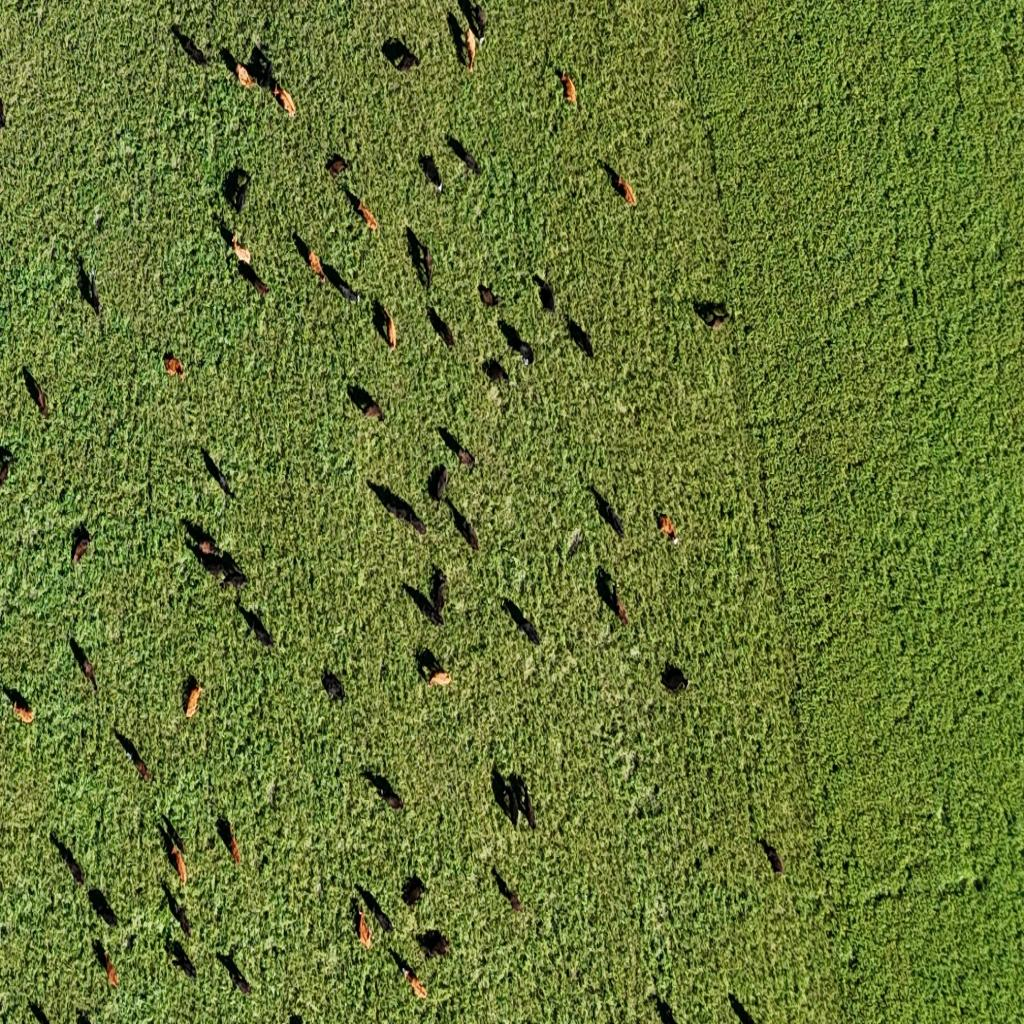cow: (237, 41, 298, 117), (368, 480, 427, 534), (225, 230, 271, 297), (195, 535, 249, 591), (159, 813, 190, 888), (227, 42, 265, 96), (596, 568, 629, 630), (456, 2, 487, 68), (357, 884, 395, 936), (503, 597, 542, 647), (114, 728, 151, 780), (447, 498, 481, 554), (364, 768, 406, 812), (498, 317, 534, 368), (51, 832, 84, 887), (322, 261, 362, 305), (438, 424, 478, 468), (406, 225, 433, 290), (161, 882, 191, 940), (238, 601, 274, 649), (202, 449, 236, 499), (492, 767, 518, 831), (69, 635, 98, 692), (592, 488, 624, 538), (392, 950, 424, 997), (492, 867, 524, 913), (3, 682, 36, 726), (293, 233, 322, 283), (220, 950, 252, 995), (345, 185, 377, 230), (416, 647, 452, 686), (22, 366, 49, 418), (448, 136, 482, 177), (88, 888, 120, 931), (78, 260, 102, 317), (382, 37, 420, 73), (183, 518, 221, 554), (173, 28, 208, 67), (428, 304, 457, 351), (604, 164, 636, 206), (348, 384, 384, 420), (513, 774, 536, 830), (92, 940, 118, 988), (224, 166, 251, 212), (217, 816, 242, 864), (694, 298, 729, 330), (374, 299, 396, 349), (568, 318, 594, 360), (170, 940, 196, 982), (416, 930, 450, 960), (420, 152, 443, 196), (71, 523, 94, 566), (430, 570, 448, 624), (728, 992, 758, 1024), (182, 676, 204, 719), (760, 838, 784, 876), (355, 901, 372, 953), (533, 275, 556, 313), (661, 662, 688, 694), (483, 357, 510, 388), (322, 669, 345, 704), (401, 876, 426, 908), (428, 465, 448, 503), (558, 68, 578, 106), (658, 513, 680, 547), (230, 232, 251, 266), (0, 444, 16, 488), (655, 994, 678, 1024), (27, 998, 50, 1024), (470, 3, 487, 38), (325, 154, 349, 178), (478, 282, 500, 308), (164, 353, 185, 379), (566, 528, 583, 559), (220, 220, 238, 249), (268, 782, 278, 810), (75, 1008, 92, 1024), (0, 93, 7, 131), (125, 932, 137, 954), (288, 1012, 304, 1024)
